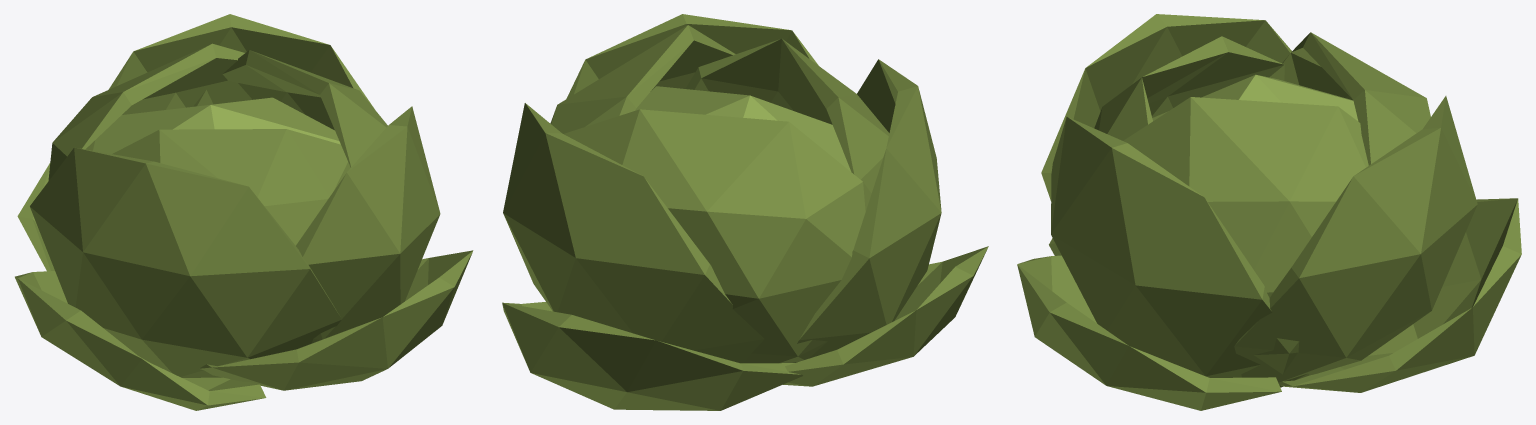
The model's file is Cabbage_02.fbx.
3 renders of one model, left to right at view 1: azimuth 30°, elevation 25°; view 2: azimuth 150°, elevation 25°; view 3: azimuth 270°, elevation 25°, orthographic. The views are drawn at different scales.
Visible parts, largest first — view 1: Cabbage_02; view 2: Cabbage_02; view 3: Cabbage_02.
Part boxes in pixels (bbox=[...]): Cabbage_02: bbox=[15, 14, 473, 410]; Cabbage_02: bbox=[502, 14, 988, 410]; Cabbage_02: bbox=[1017, 14, 1521, 410].
Bounding box in the file's own units: 23.19 × 16.43 × 24.33.
